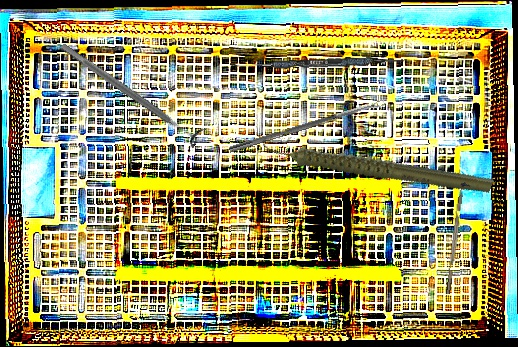Chopper: (439, 177, 467, 295)
Fixation Ring: (54, 34, 208, 150)
Handpiece: (260, 90, 495, 239)
Spatula Surgical: (229, 53, 408, 73)
Surgical Spoon: (228, 99, 386, 154)
